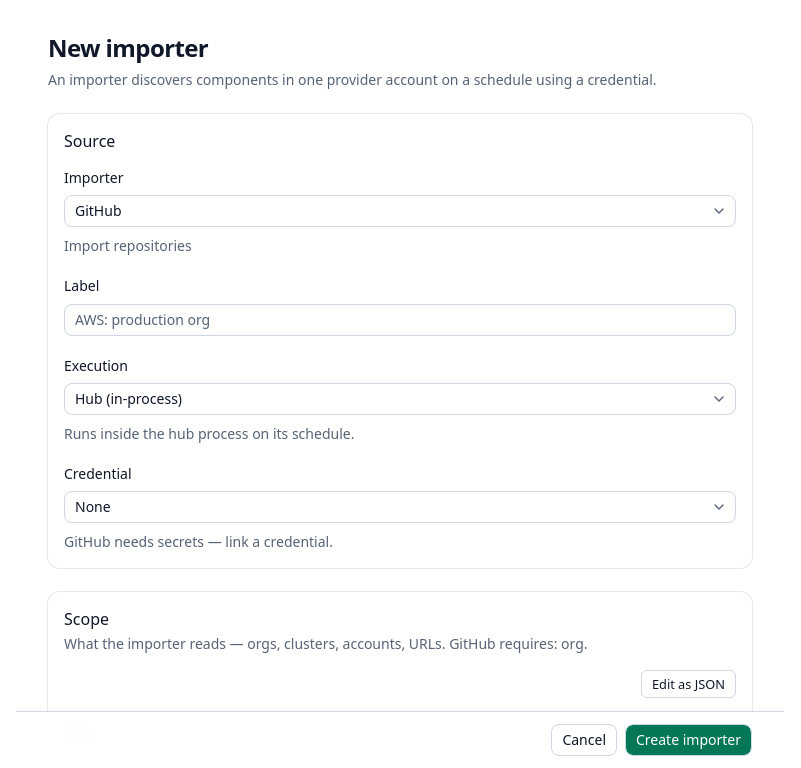
ImporterForm — schema-driven scope fields (G13) › blocks submit with an inline error when a required field is empty
In the field with id "i-label": (400, 320) left=64, top=304, right=736, bottom=336, type "Test config"
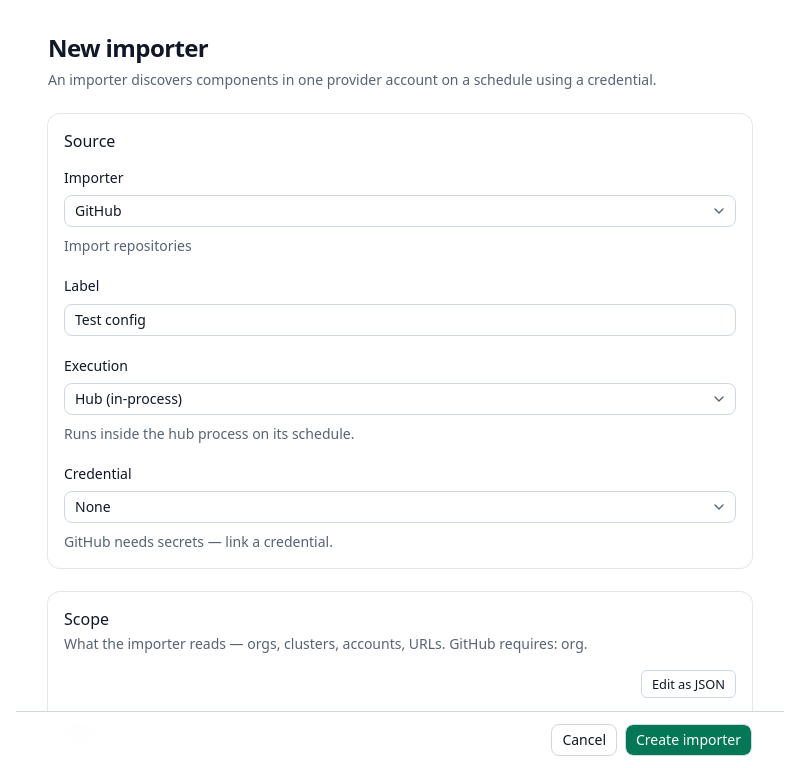
Click the button "Create importer": (688, 740) left=625, top=724, right=752, bottom=756
(page scrolled)
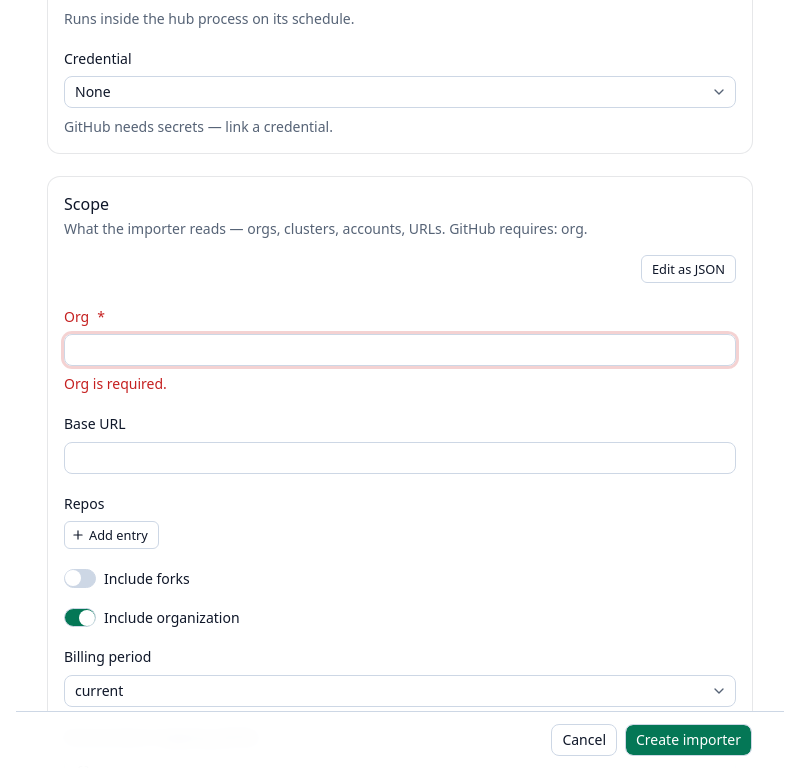
Expected: the text "Org is required." is shown, left=64, top=374, right=167, bottom=393
